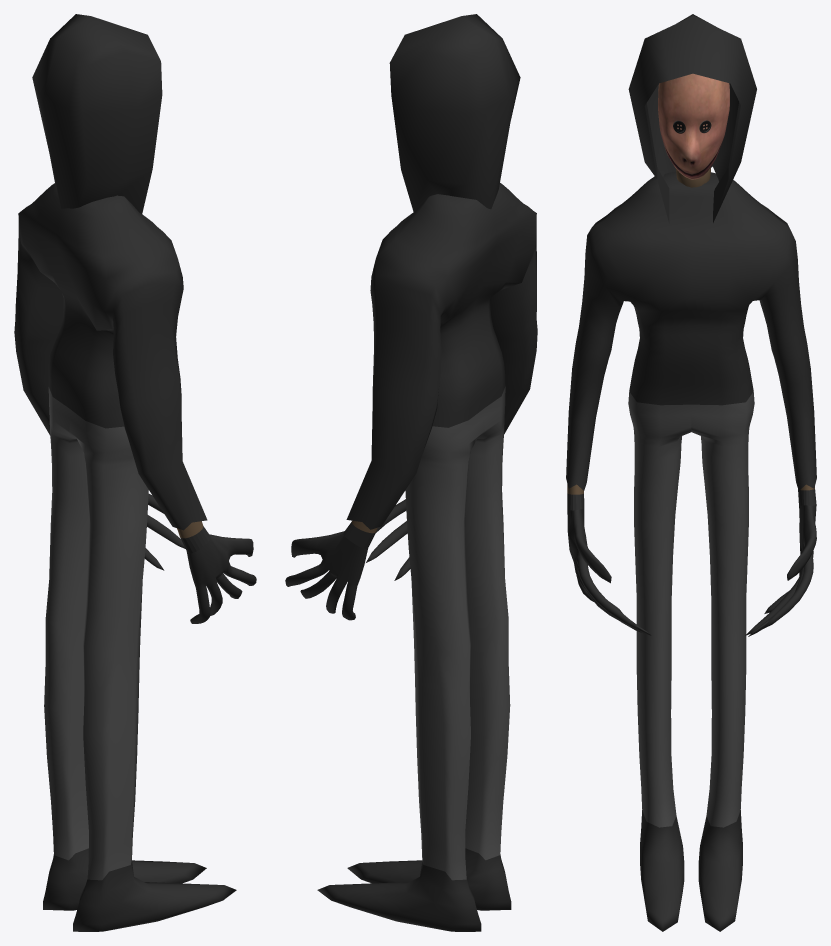
Rendered from HorrorM.fbx.
3 renders of one model, left to right at view 1: azimuth 30°, elevation 25°; view 2: azimuth 150°, elevation 25°; view 3: azimuth 270°, elevation 25°, orthographic. The views are drawn at different scales.
Visible parts, largest first — view 1: pCube6, pCube7, pCube24, pCube26; view 2: pCube6, pCube7, pCube26, pCube24; view 3: pCube6, pCube7, pCube1, pCube24, pCube26.
Part boxes in pixels (bbox=[...]): pCube6: bbox=[14, 183, 236, 931]; pCube7: bbox=[32, 14, 162, 214]; pCube24: bbox=[177, 521, 256, 623]; pCube26: bbox=[144, 494, 185, 570]; pCube6: bbox=[317, 183, 537, 931]; pCube7: bbox=[389, 14, 520, 212]; pCube26: bbox=[285, 520, 377, 620]; pCube24: bbox=[366, 499, 410, 580]; pCube6: bbox=[566, 171, 816, 931]; pCube7: bbox=[628, 14, 756, 223]; pCube1: bbox=[658, 73, 729, 179]; pCube24: bbox=[567, 484, 651, 635]; pCube26: bbox=[745, 484, 816, 636].
Bounding box in the file's own units: 1.71 × 8.01 × 2.11.
